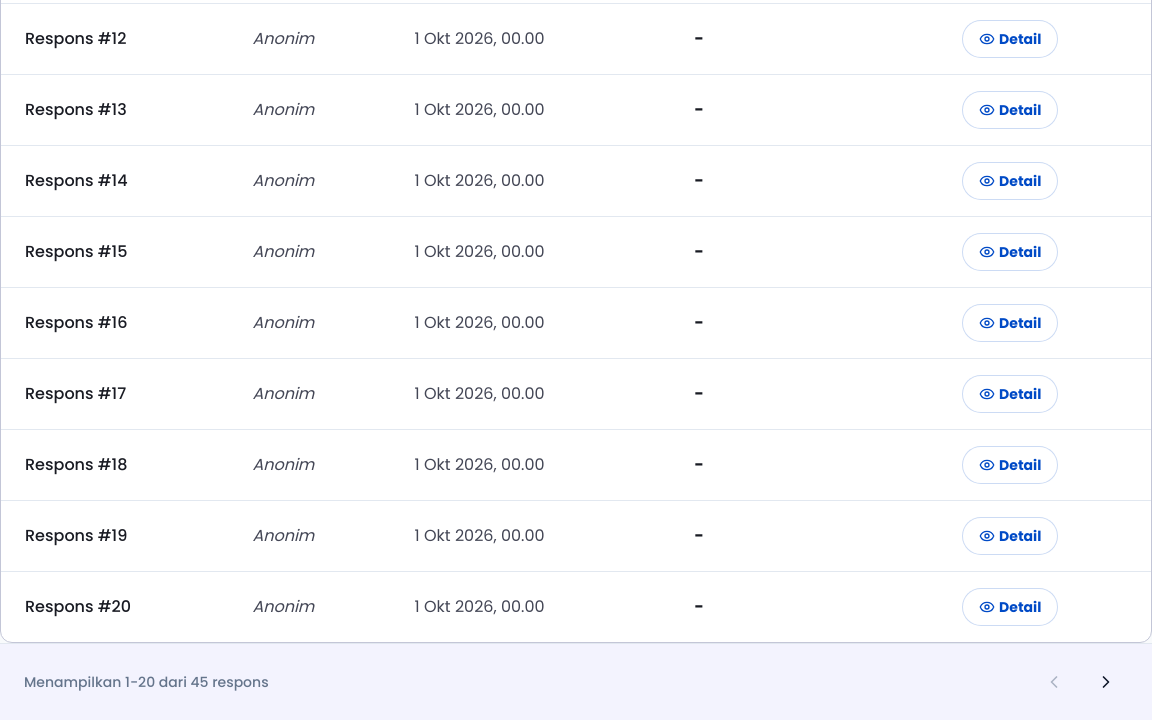
Scenario: SurveyResponsesScreen — paginasi sungguhan › mengambil halaman berikutnya dari backend, bukan memotong daftar yang sama
The width and height of the screenshot is (1152, 720).
(page scrolled)
Step 1. Click the button named "Halaman berikutnya" → {"x": 1106, "y": 682}, box [1084,660,1128,704]
(page scrolled)
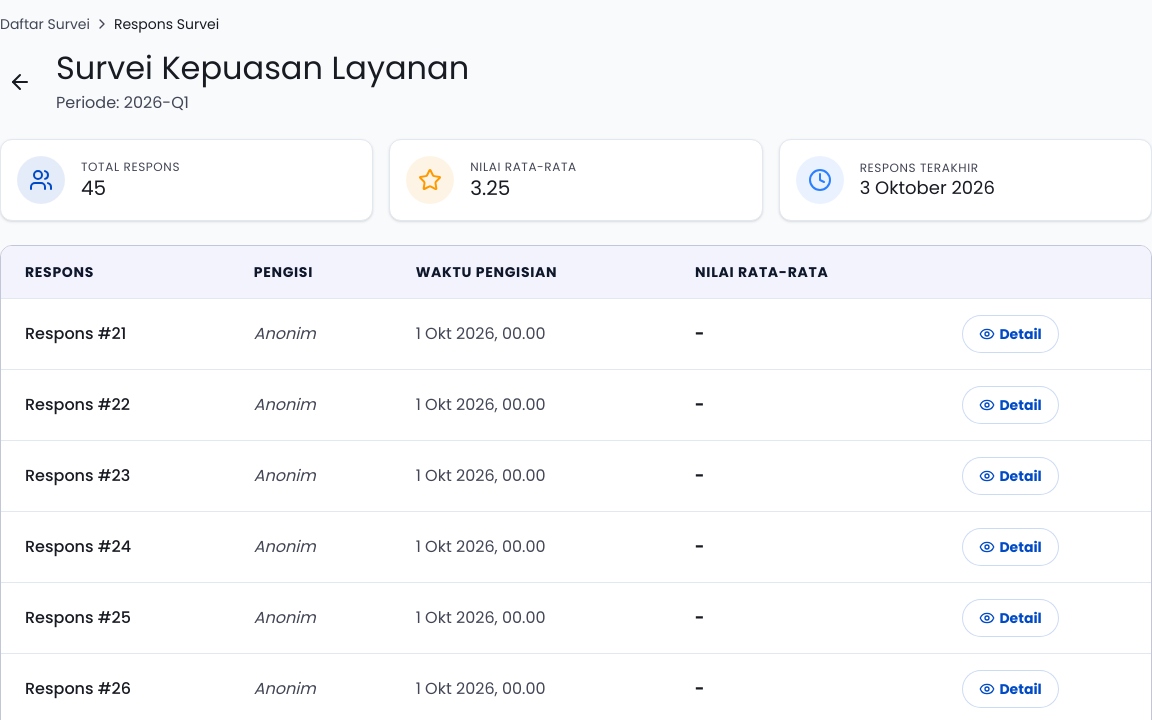
Check: the text "Respons #21" is shown, box [25,322,126,345]
